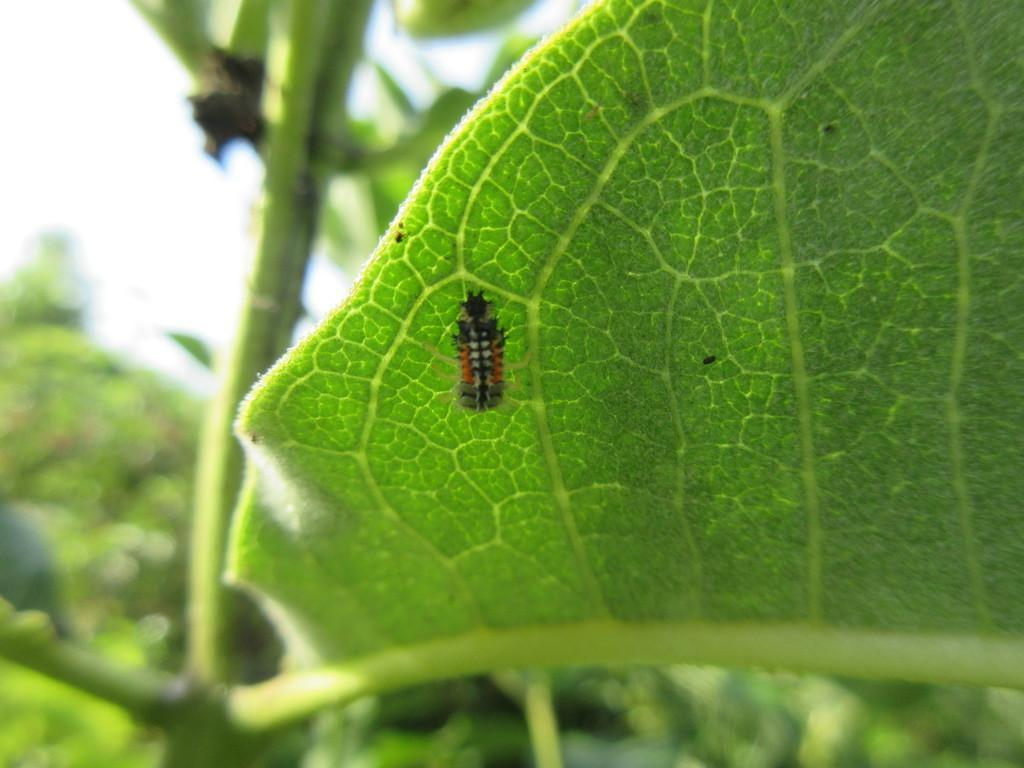ladybug: (449, 287, 515, 416)
